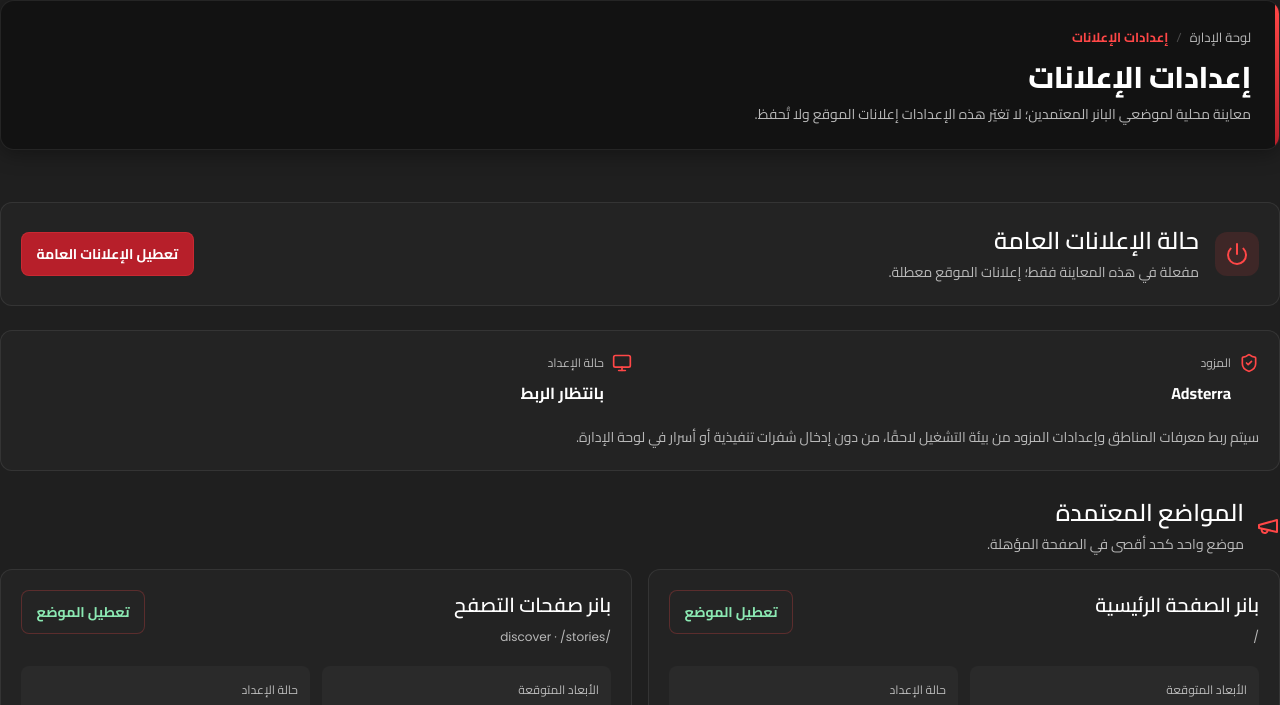
Test case: AdminAds › confirms the global advertisement toggle
Click the button "تعطيل الإعلانات العامة" at (107, 254), box [21,232,194,276]
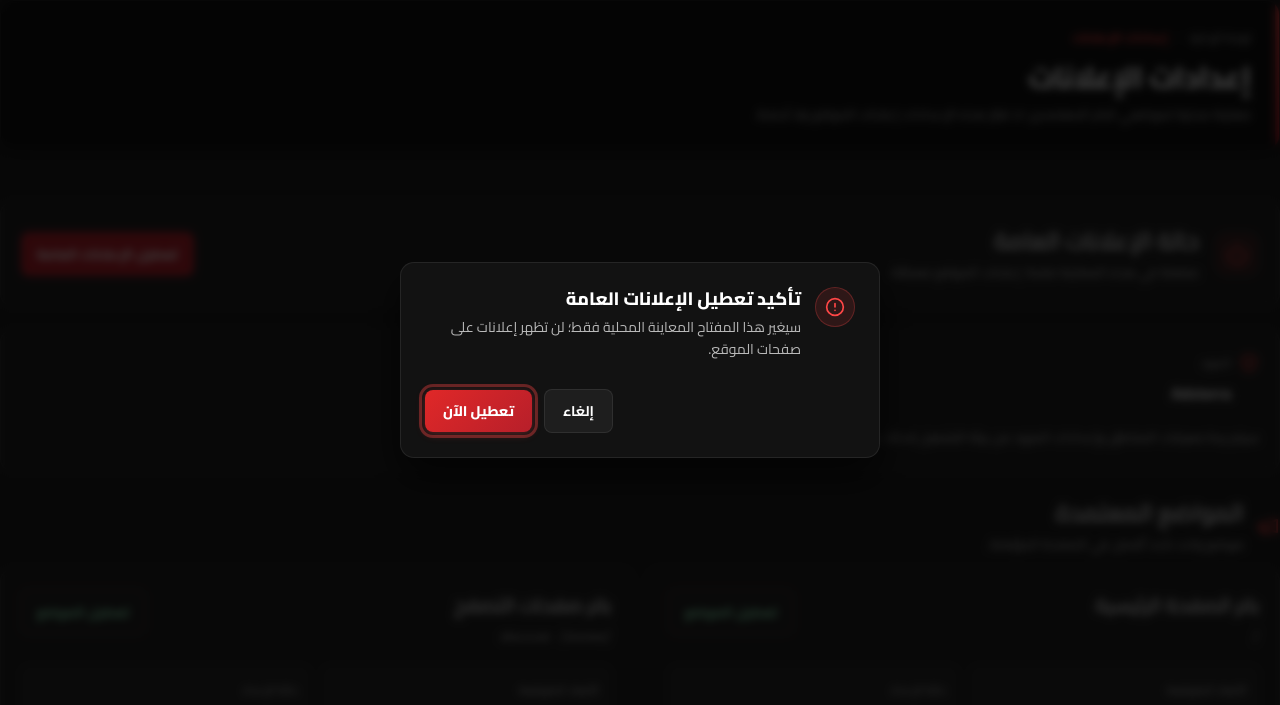
Click the button "تعطيل الآن" at (478, 411), box [425,390,532,432]
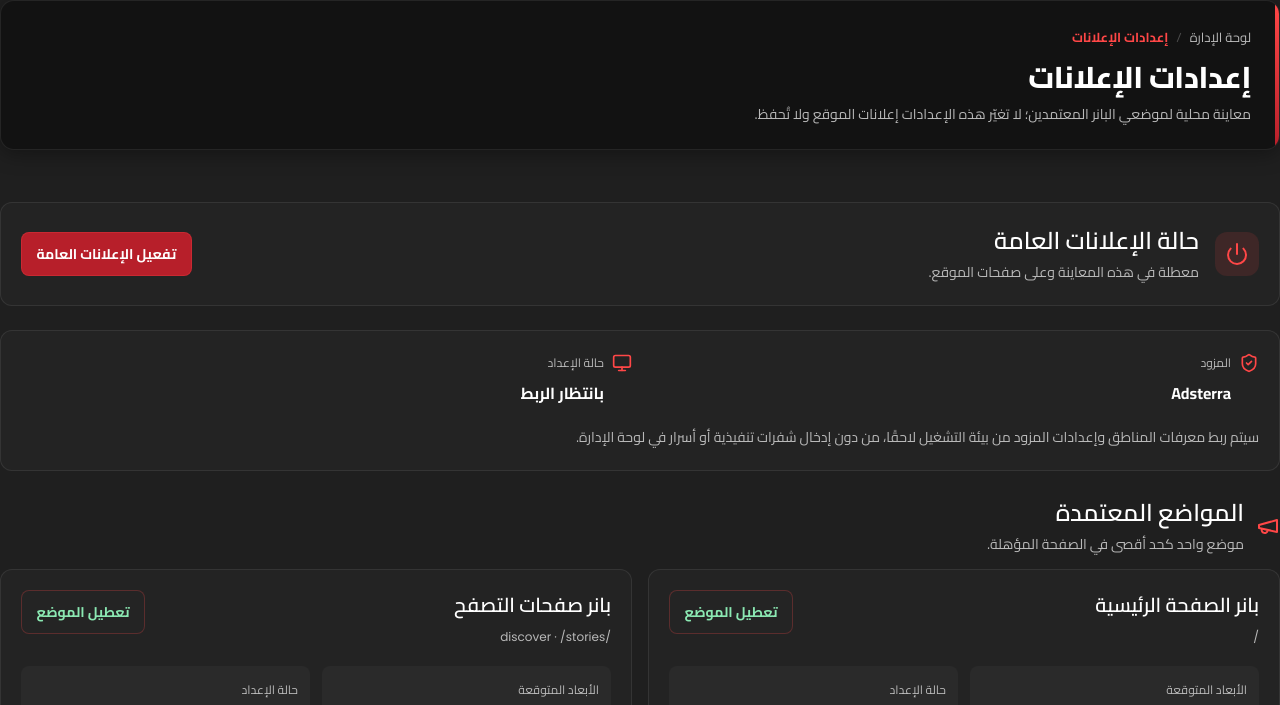
Expected: the text "معطلة في هذه المعاينة وعلى صفحات الموقع." is shown, [929,259,1199,285]
